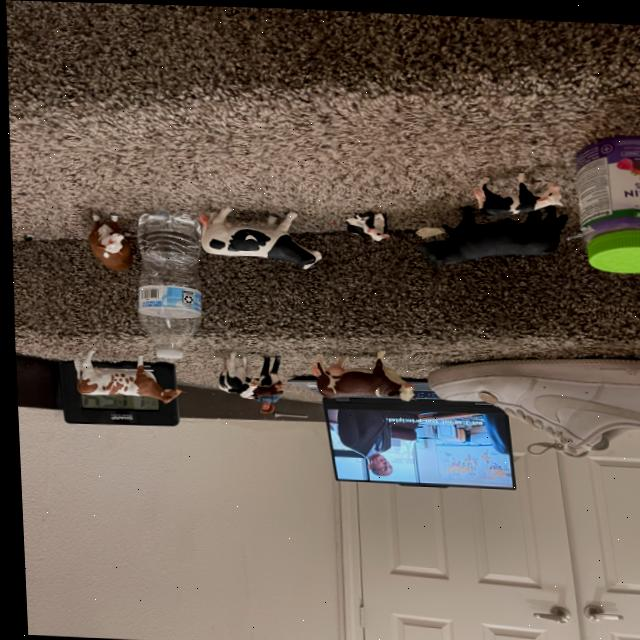cow: (412, 193, 569, 264), (196, 203, 322, 268), (67, 346, 181, 405), (306, 347, 409, 400), (470, 163, 562, 216), (73, 204, 137, 278), (210, 347, 261, 399), (342, 205, 388, 245), (248, 378, 280, 399)
person: (251, 394, 276, 412)
